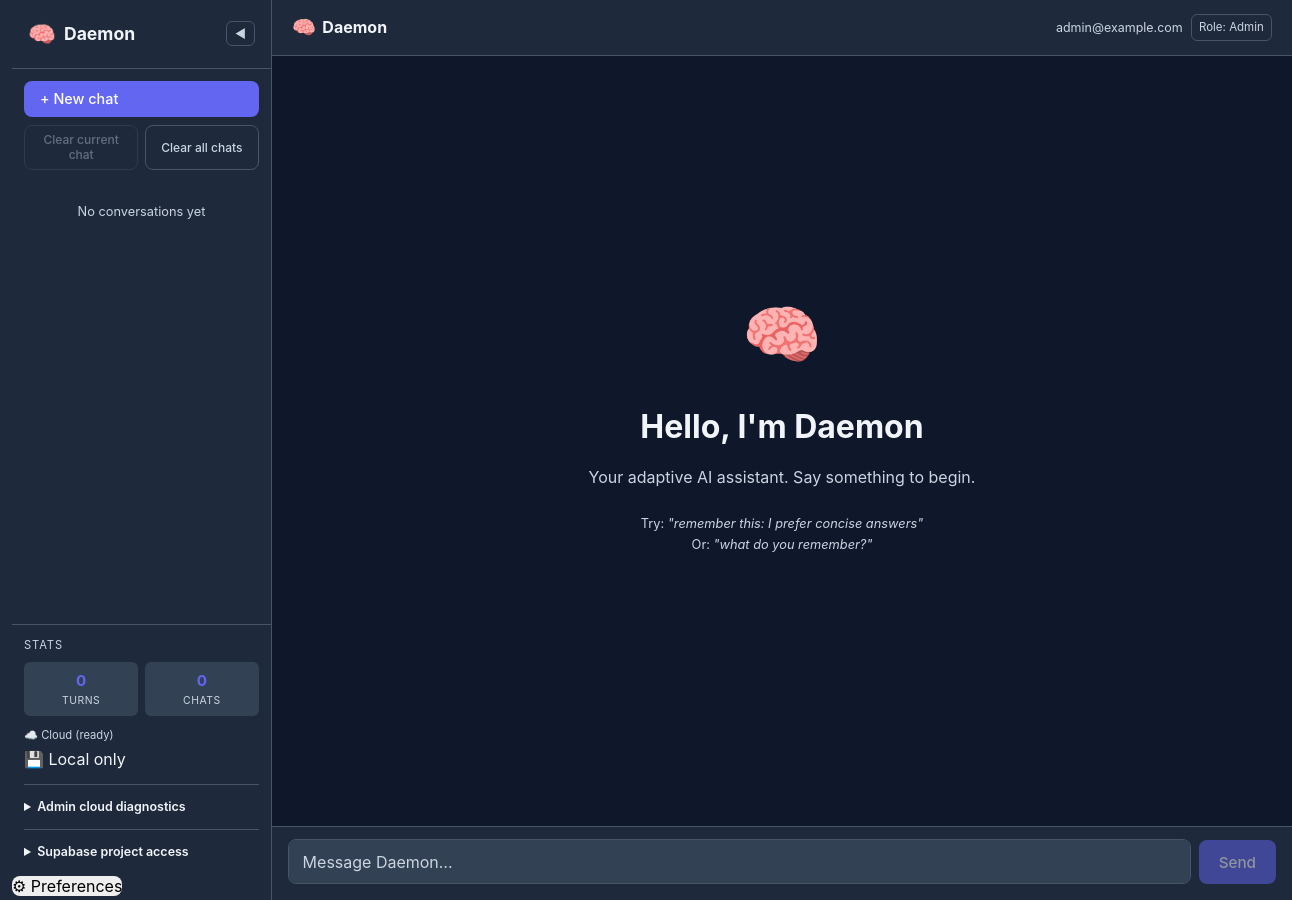
Scenario: DaemonInterface › shows the rate-limit fallback message for rate-limited cloud responses
In the text box with placeholder "Message Daemon…": coordinates (739, 862) [288, 839, 1191, 884], type "Rate limited?"
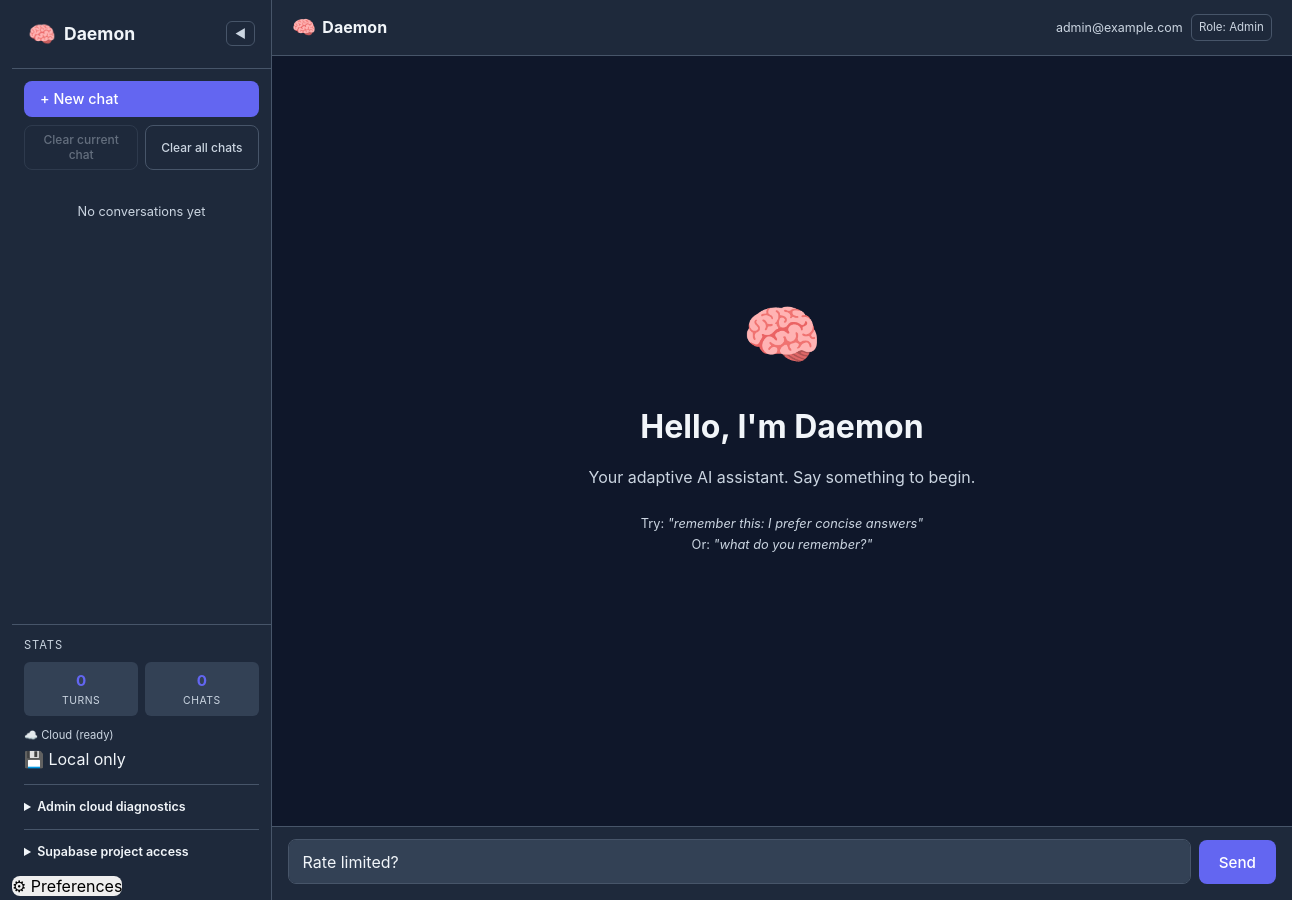
Click the button with aria-label "Send message": coordinates (1237, 862) [1199, 840, 1276, 884]
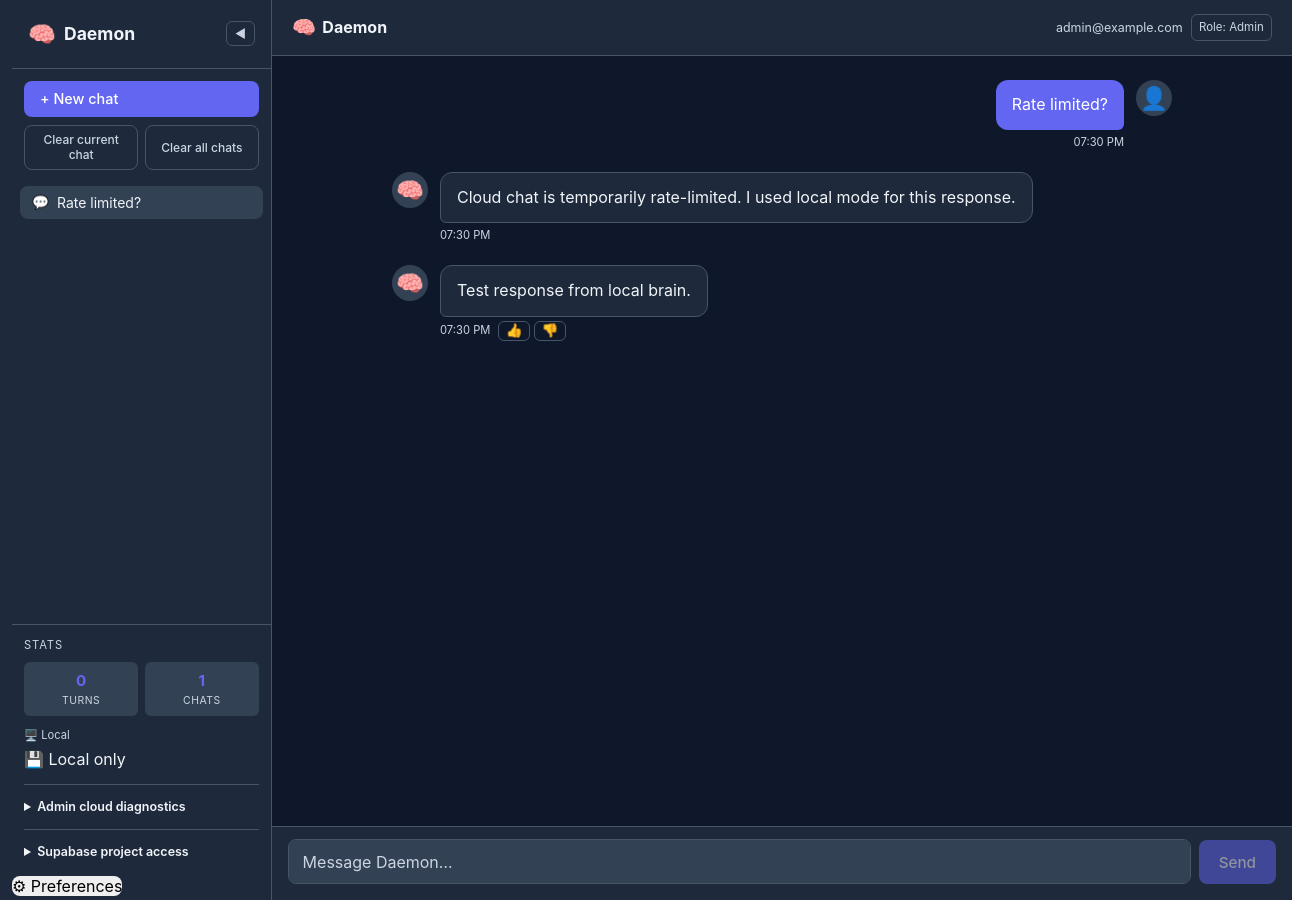
Check: the text "Cloud chat is temporarily rate-limited" is shown, box [457, 186, 1016, 206]
